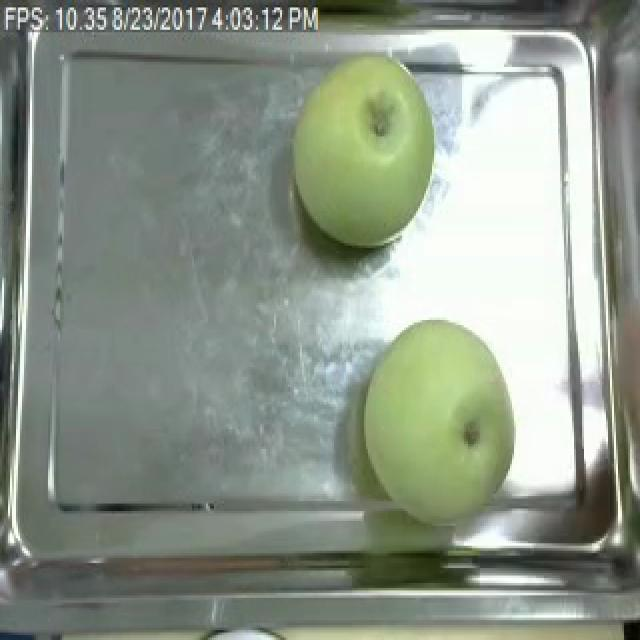50-_ripeness: (365, 303, 524, 536), (290, 43, 434, 258)
